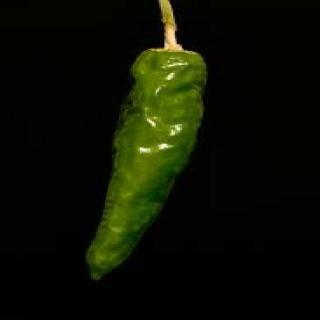Cabai Hijau: (83, 52, 207, 278)
